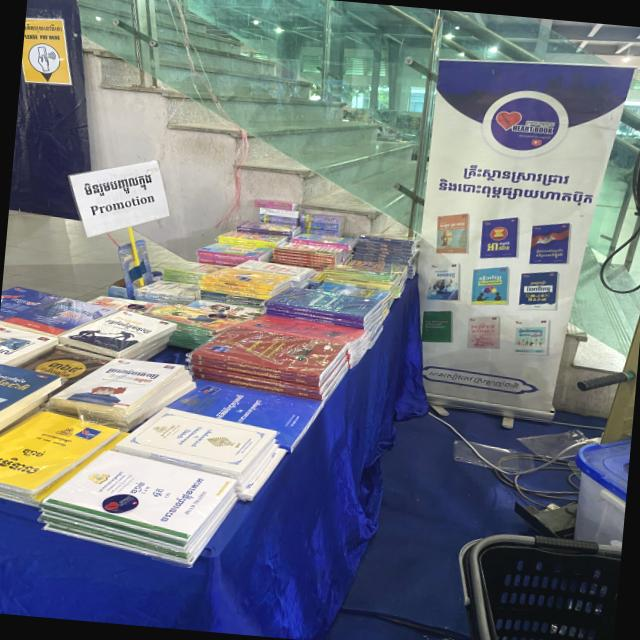1: (427, 368, 522, 391)
Yolov11_80vkh: (435, 177, 595, 208), (459, 163, 572, 189), (156, 475, 210, 524), (79, 171, 159, 204), (0, 452, 47, 481), (102, 366, 162, 382), (104, 317, 154, 335), (52, 302, 99, 317), (104, 372, 153, 385), (46, 359, 85, 374), (15, 445, 51, 461), (36, 366, 74, 379), (26, 21, 63, 34), (112, 314, 145, 326), (125, 479, 148, 496), (148, 484, 169, 500), (57, 310, 86, 321), (525, 285, 550, 293), (516, 328, 544, 335), (486, 241, 498, 252), (497, 244, 509, 251)
